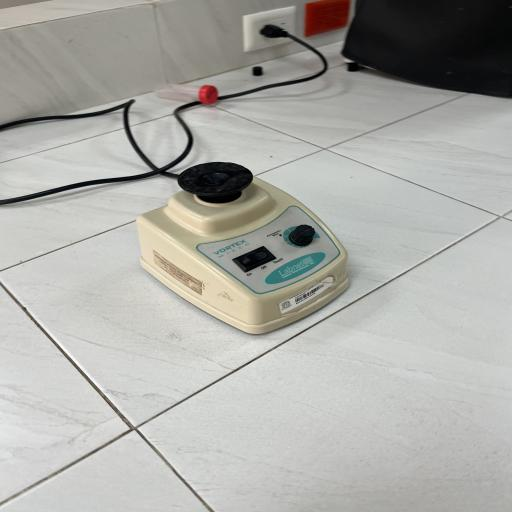Vortex_Mixer_LabNet: (121, 152, 385, 351)
